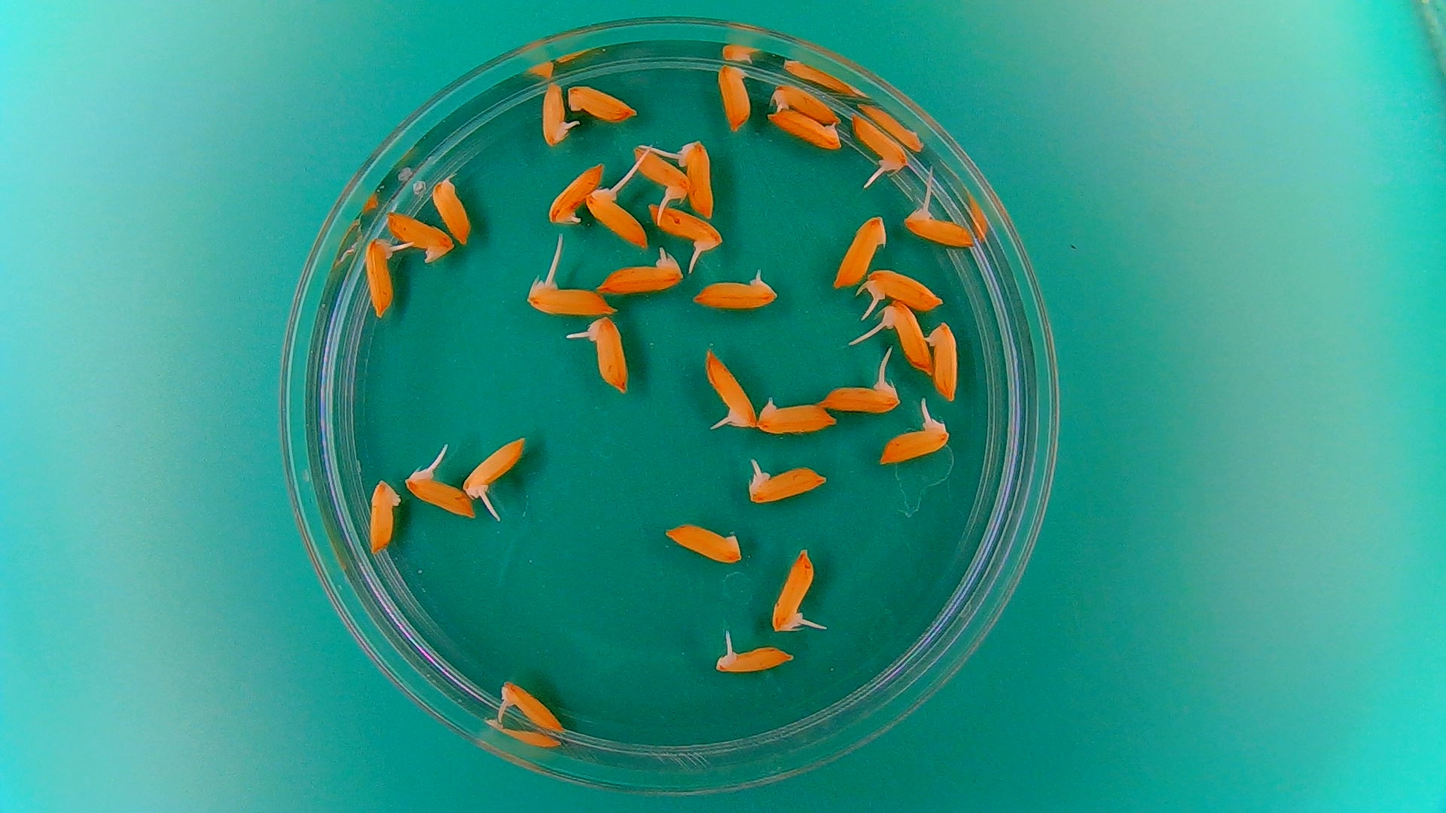no: (831, 212, 886, 288), (661, 520, 745, 567), (755, 392, 840, 437), (384, 209, 453, 263), (765, 108, 847, 151), (768, 83, 843, 125), (429, 178, 473, 248), (566, 82, 639, 123), (366, 477, 401, 555), (715, 61, 752, 131), (928, 318, 959, 401)
yes: (461, 432, 527, 496), (644, 199, 724, 250), (770, 547, 815, 637), (546, 158, 607, 224), (692, 267, 780, 312), (706, 349, 756, 428), (883, 301, 935, 375), (584, 190, 648, 249), (630, 145, 691, 205), (850, 109, 910, 169), (526, 279, 618, 318), (587, 314, 631, 395), (405, 467, 477, 516), (860, 269, 944, 311), (501, 682, 567, 735), (676, 136, 718, 218), (364, 235, 404, 318), (881, 416, 947, 464), (748, 466, 821, 507), (600, 260, 685, 294), (819, 379, 901, 413), (901, 209, 972, 247), (713, 640, 787, 674), (539, 80, 573, 147)
